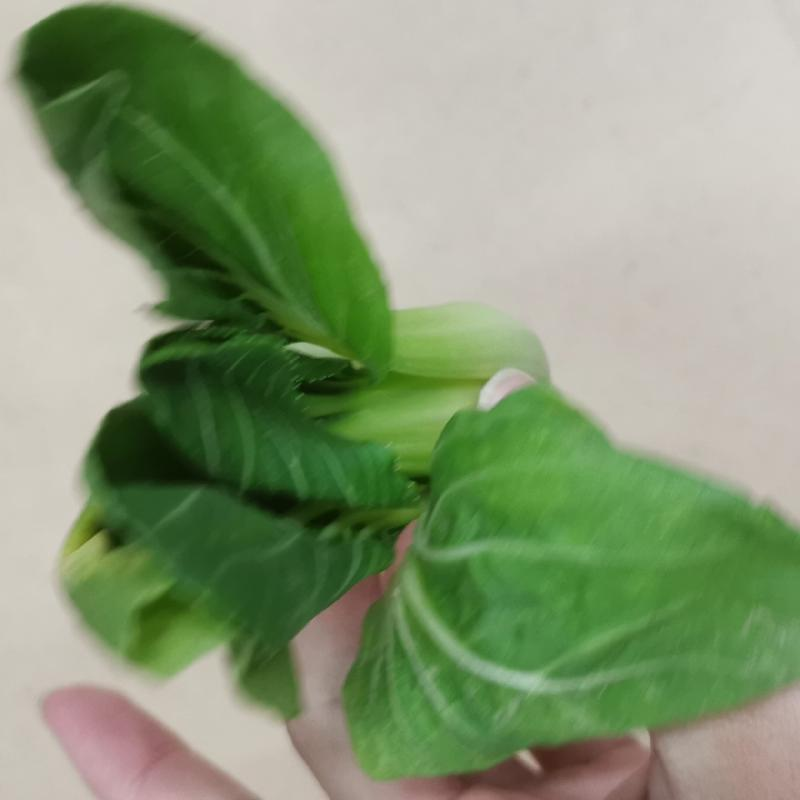green vegatable: (14, 10, 800, 688)
